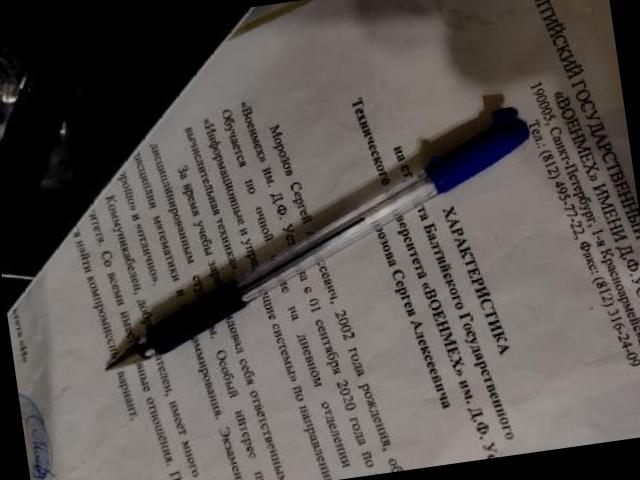PEN: (84, 88, 545, 395)
